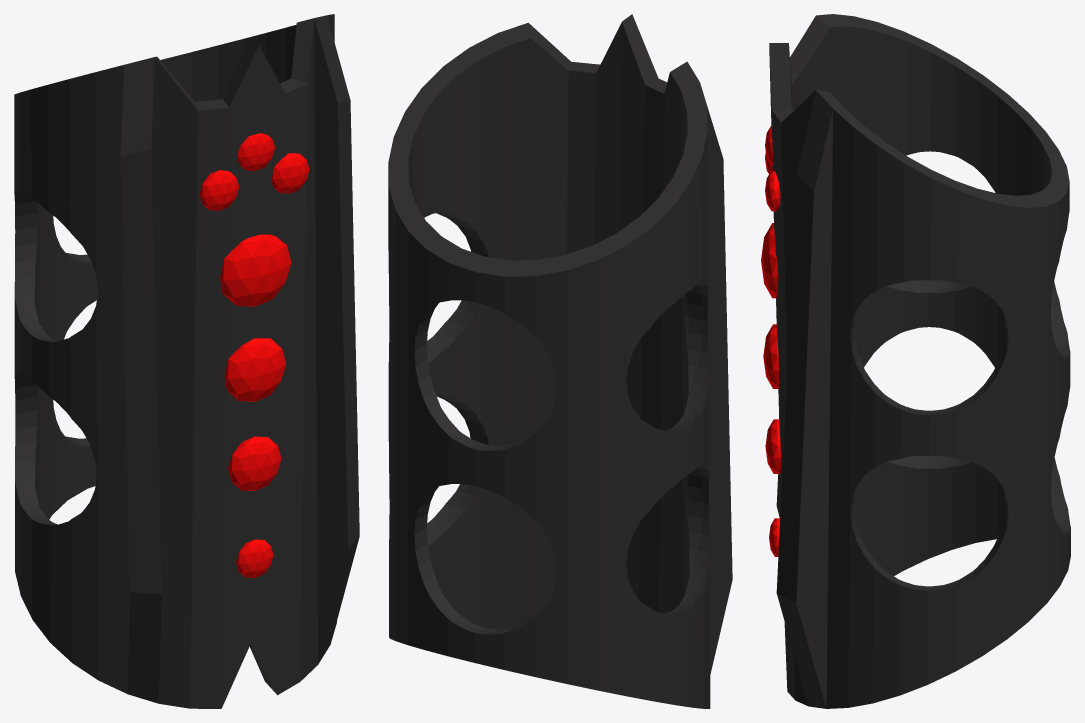
File: amulet_02.fbx
3 renders of one model, left to right at view 1: azimuth 30°, elevation 25°; view 2: azimuth 150°, elevation 25°; view 3: azimuth 270°, elevation 25°, orthographic. The views are drawn at different scales.
Visible parts, largest first — view 1: Cylinder, Icosphere.001, Icosphere.002, Icosphere.003, Icosphere.005, Icosphere, Icosphere.004, Icosphere.006; view 2: Cylinder; view 3: Cylinder, Icosphere.001, Icosphere.002, Icosphere.003, Icosphere.
Boxes of the visible parts, left/top/right/bottom form: Cylinder: left=14, top=14, right=359, bottom=708; Icosphere.001: left=220, top=234, right=291, bottom=306; Icosphere.002: left=224, top=338, right=286, bottom=401; Icosphere.003: left=228, top=436, right=281, bottom=490; Icosphere.005: left=199, top=170, right=238, bottom=210; Icosphere: left=271, top=153, right=309, bottom=193; Icosphere.004: left=236, top=539, right=273, bottom=577; Icosphere.006: left=237, top=133, right=274, bottom=171; Cylinder: left=388, top=14, right=732, bottom=708; Cylinder: left=769, top=14, right=1070, bottom=708; Icosphere.001: left=761, top=223, right=778, bottom=298; Icosphere.002: left=763, top=324, right=779, bottom=388; Icosphere.003: left=765, top=419, right=780, bottom=473; Icosphere: left=765, top=170, right=780, bottom=211.
Size of the model in its own units: 800 by 1769 by 782.
